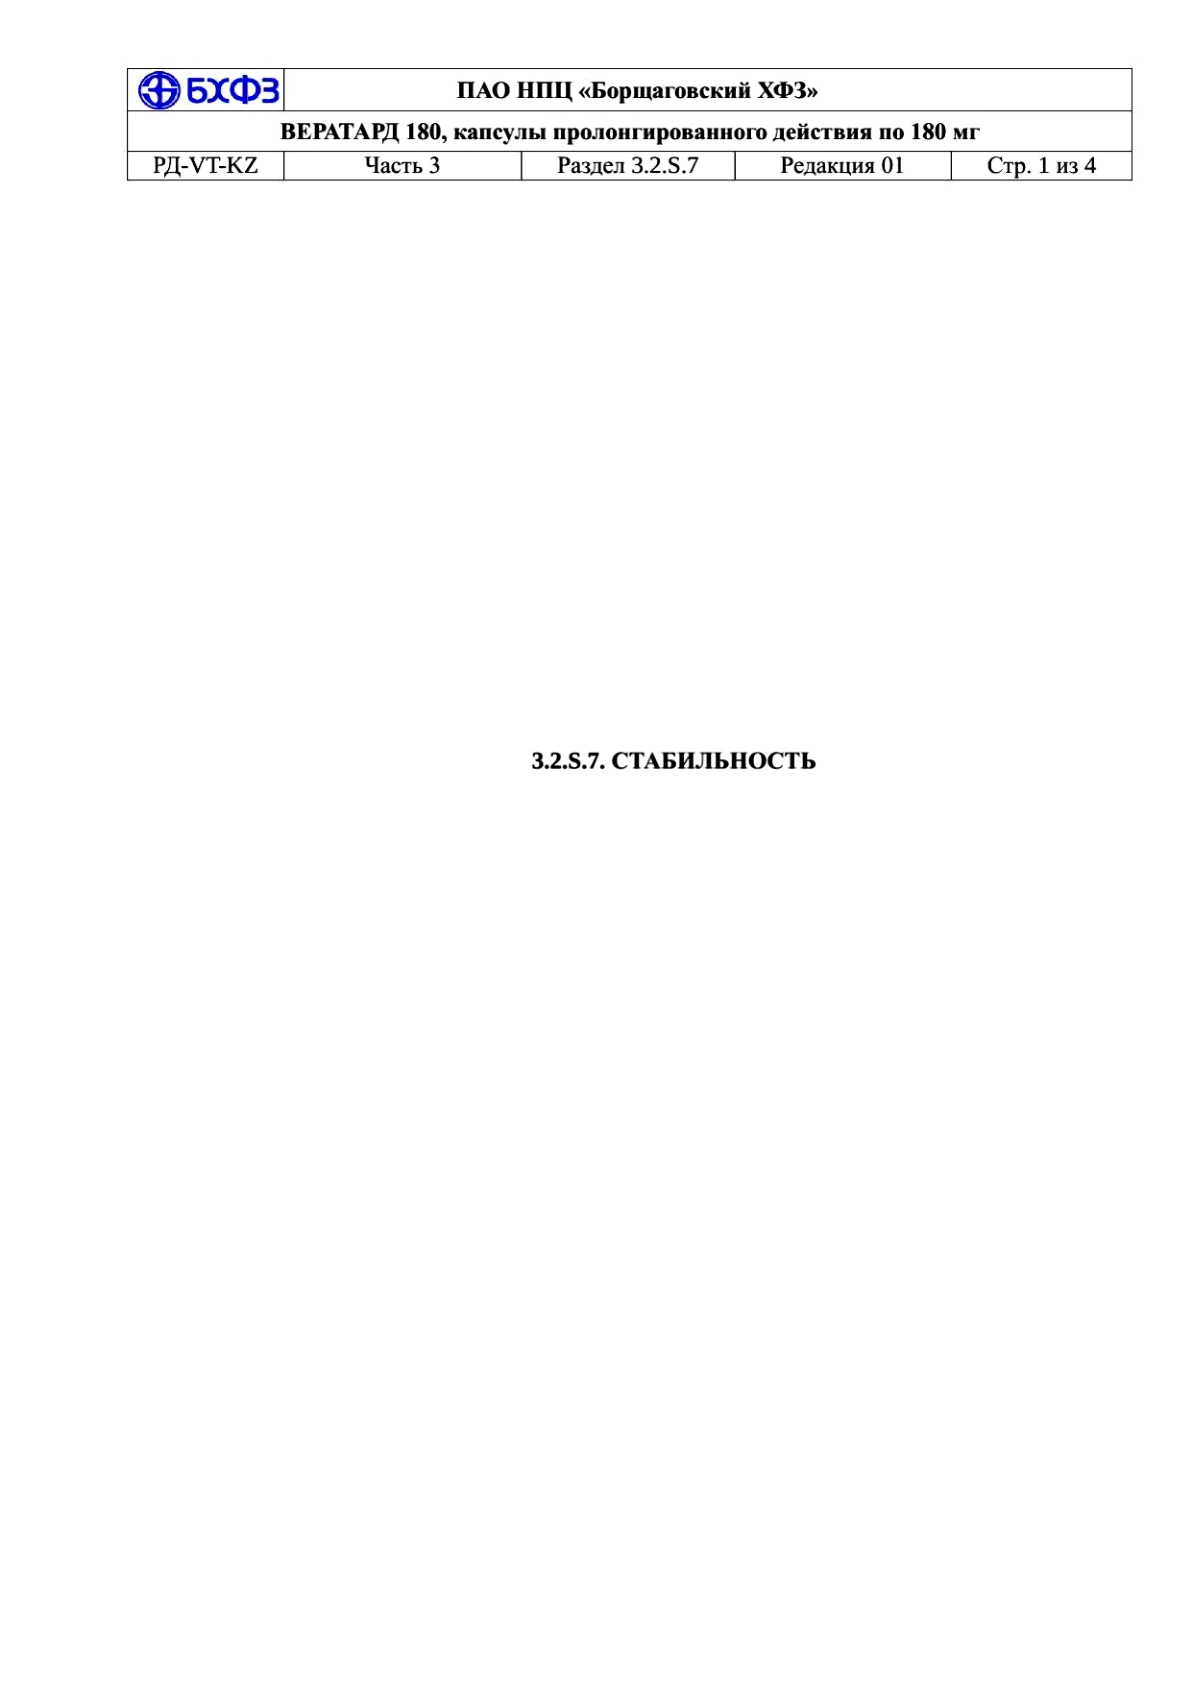merged_cells: (127, 67, 1134, 181)
